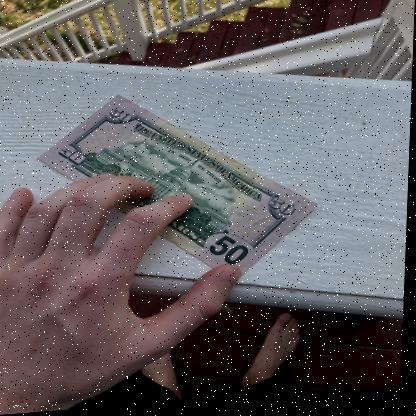fifty-back: (38, 89, 315, 288)
